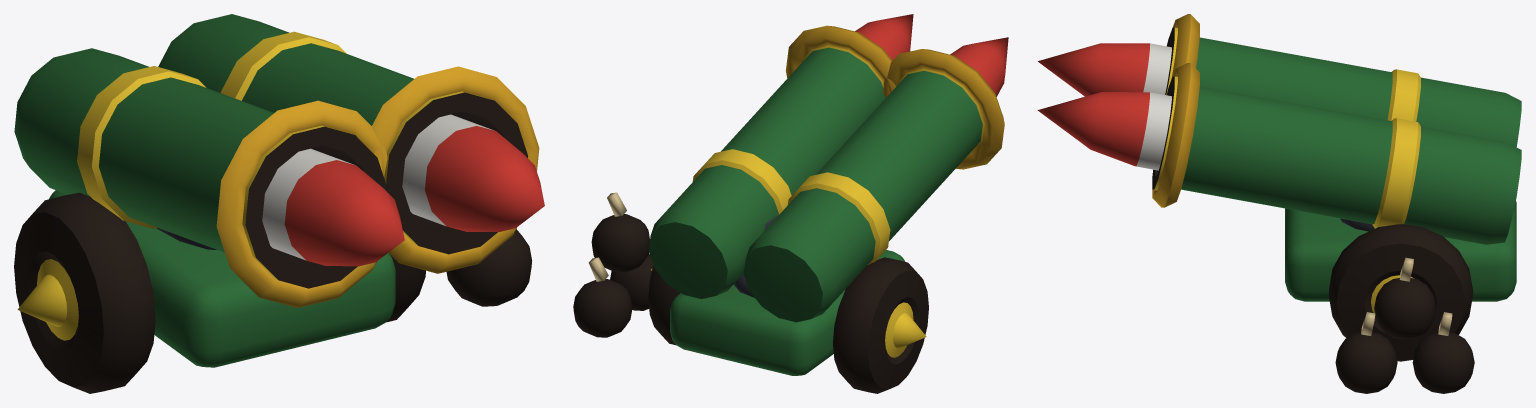
The picture shows the model from 3 angles, left to right: view 1: azimuth 30°, elevation 25°; view 2: azimuth 150°, elevation 25°; view 3: azimuth 270°, elevation 25°; orthographic projection. The views are drawn at different scales.
Visible parts, largest first — view 1: bomba_1_torreta, bomba_0_base; view 2: bomba_1_torreta, bomba_0_base; view 3: bomba_1_torreta, bomba_0_base.
Part boxes in pixels (bbox=[...]): bomba_1_torreta: bbox=[14, 14, 544, 307]; bomba_0_base: bbox=[14, 190, 531, 393]; bomba_1_torreta: bbox=[648, 14, 1008, 322]; bomba_0_base: bbox=[573, 192, 928, 393]; bomba_1_torreta: bbox=[1037, 14, 1521, 244]; bomba_0_base: bbox=[1285, 201, 1516, 393].
Bounding box in the file's own units: 0.9344 × 0.6821 × 1.13.
